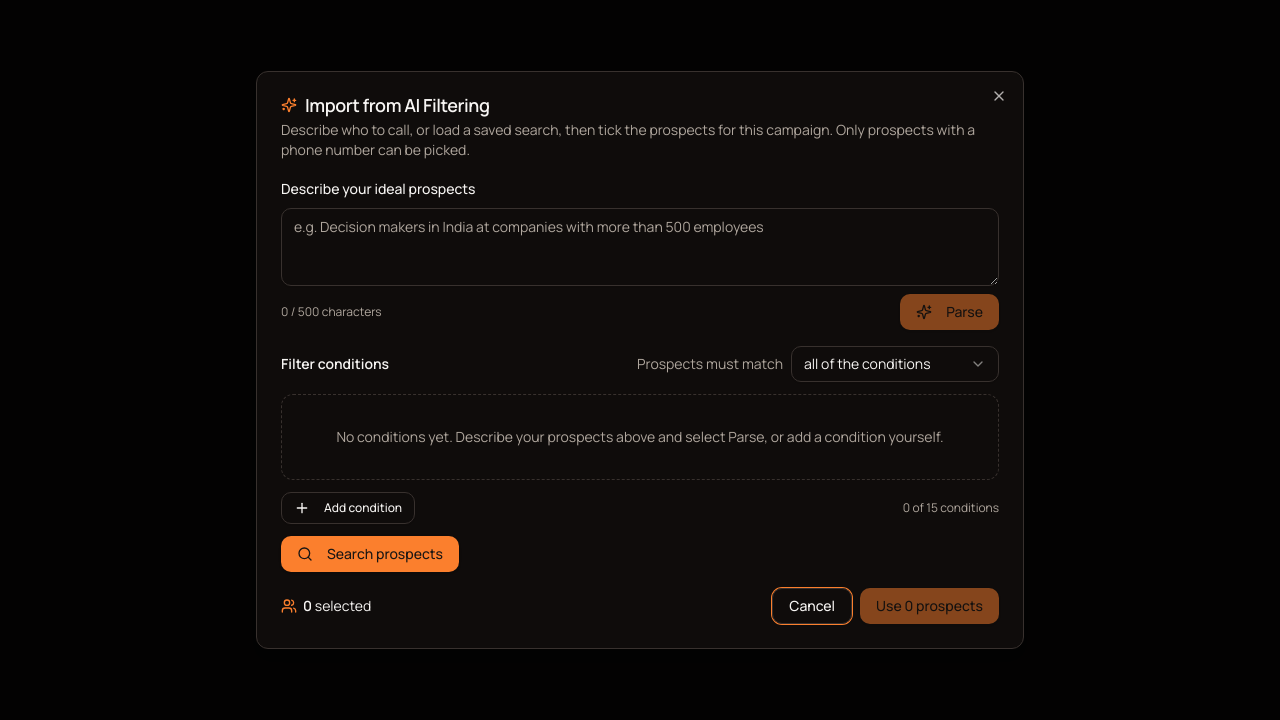
Test: cannot confirm an empty selection
Click the button "Search prospects" at (370, 554), box [281,536,459,572]
(page scrolled)
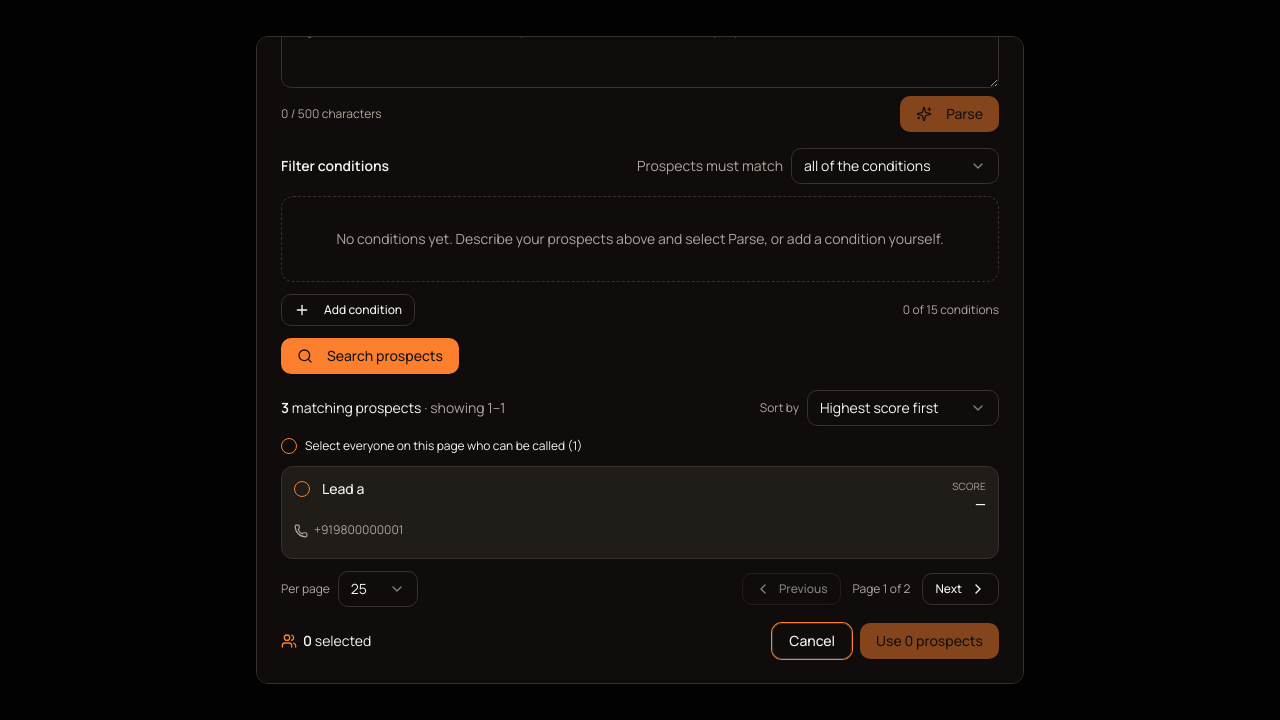
Expected: the button "Use 0 prospects" is disabled, [860,623,999,659]
Now the text "Lead a" is shown, box [322,479,364,498]
